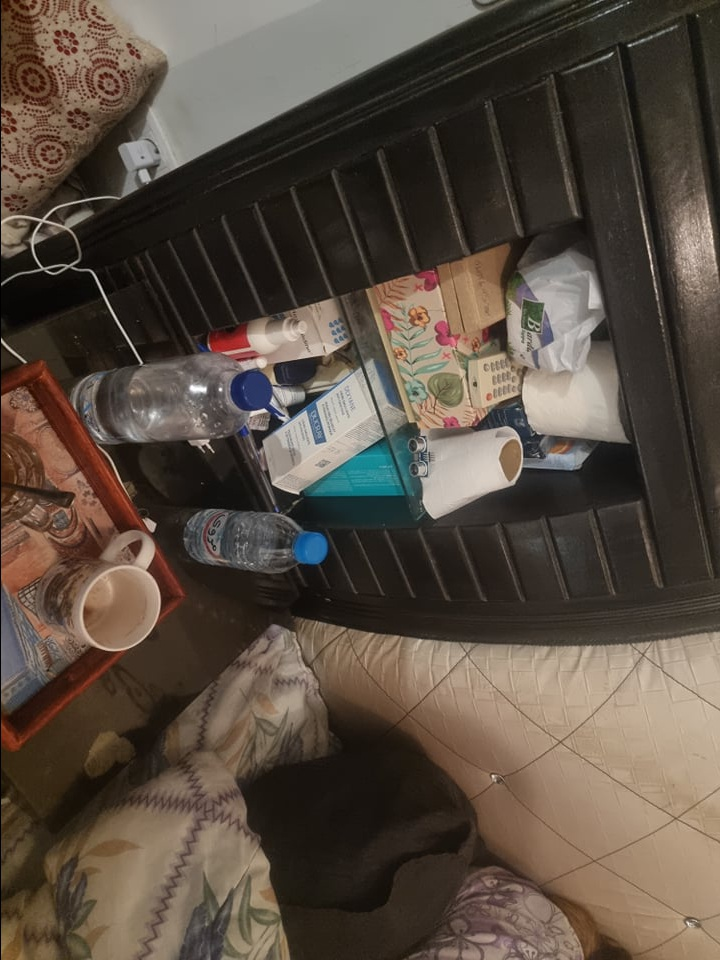SENSOR: (404, 434, 431, 480)
